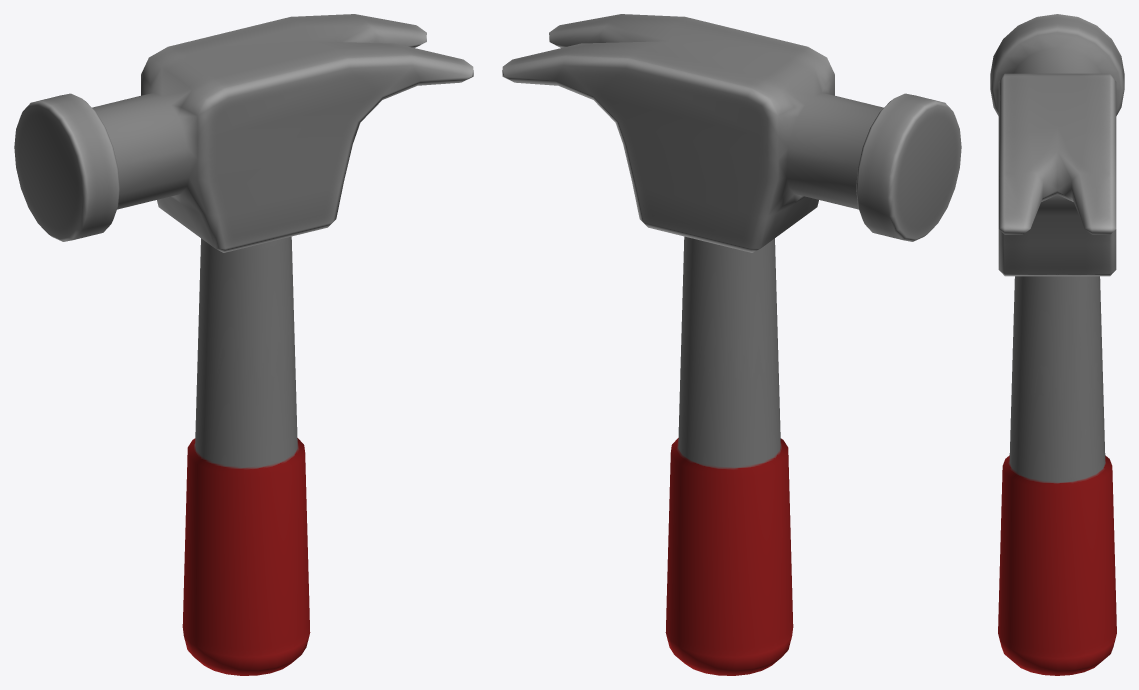
Rendered from hammer_red.fbx.
The picture shows the model from 3 angles, left to right: view 1: azimuth 30°, elevation 25°; view 2: azimuth 150°, elevation 25°; view 3: azimuth 270°, elevation 25°; orthographic projection. The views are drawn at different scales.
Visible parts, largest first — view 1: pCylinder3.003; view 2: pCylinder3.003; view 3: pCylinder3.003.
Part boxes in pixels (left/top/right/bottom): pCylinder3.003: left=14, top=14, right=473, bottom=675; pCylinder3.003: left=502, top=14, right=961, bottom=675; pCylinder3.003: left=990, top=14, right=1124, bottom=675.
Bounding box in the file's own units: 0.7449 × 1.08 × 0.2355.
